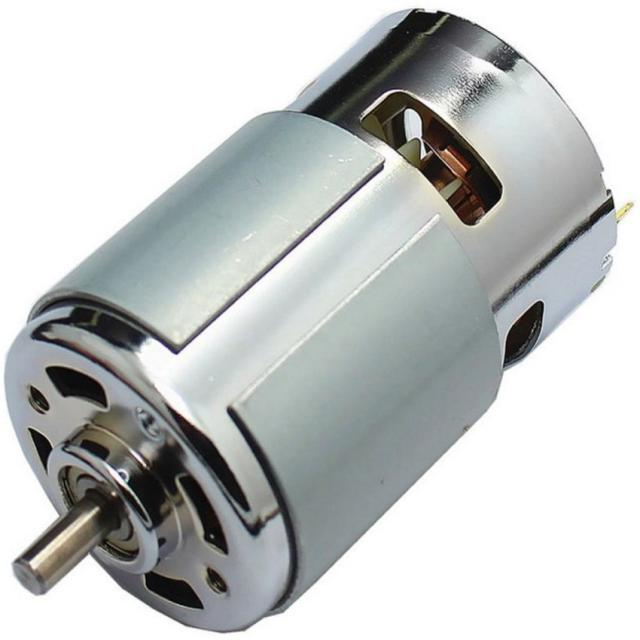motor: (2, 8, 619, 637)
